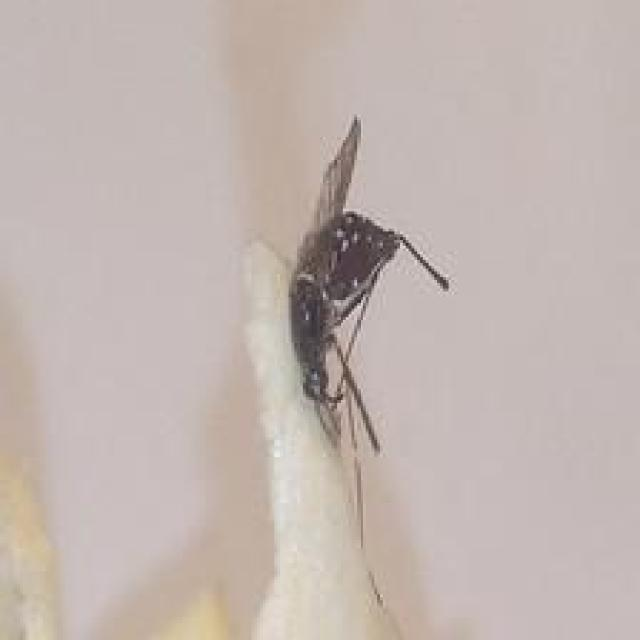Aedes albopictus: (283, 113, 451, 613)
